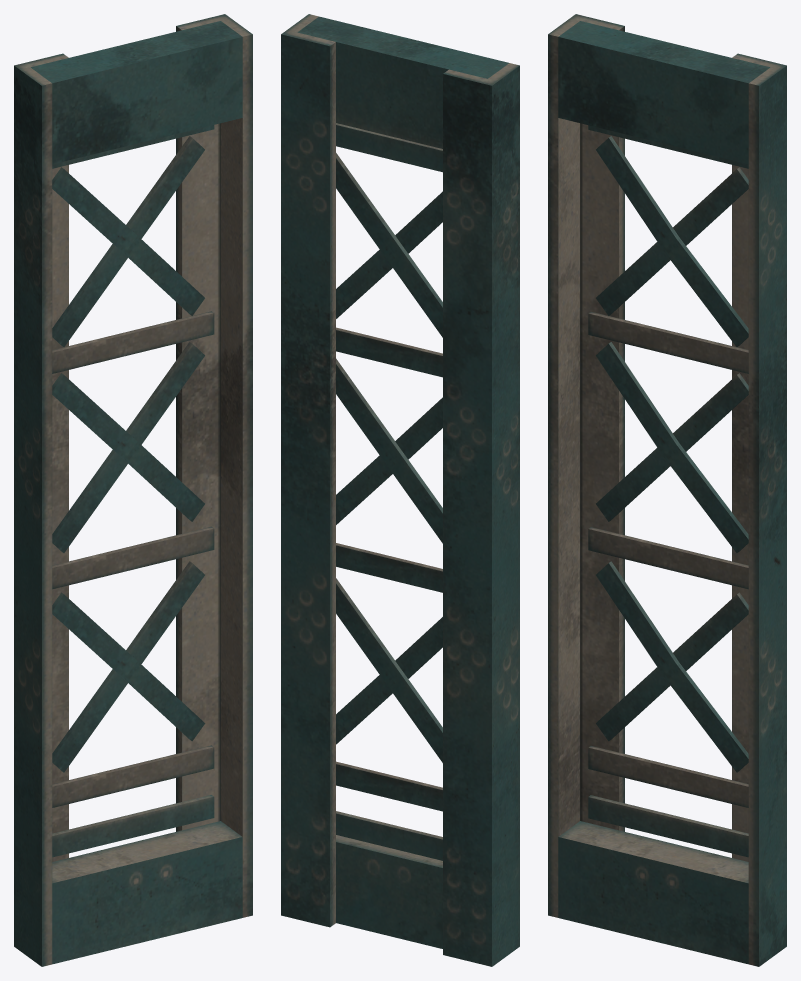
File: SM_PillarFrameFront4m.FBX
3 views of the same model, side by side, from view 1: azimuth 30°, elevation 25°; view 2: azimuth 150°, elevation 25°; view 3: azimuth 330°, elevation 25° (orthographic).
Visible parts, largest first — view 1: SM_PillarFrameFront4m; view 2: SM_PillarFrameFront4m; view 3: SM_PillarFrameFront4m.
Part boxes in pixels (left/top/right/bottom): SM_PillarFrameFront4m: left=14, top=14, right=252, bottom=966; SM_PillarFrameFront4m: left=281, top=14, right=519, bottom=966; SM_PillarFrameFront4m: left=548, top=14, right=786, bottom=966.
Size of the model in its own units: 100 by 22.88 by 400.
